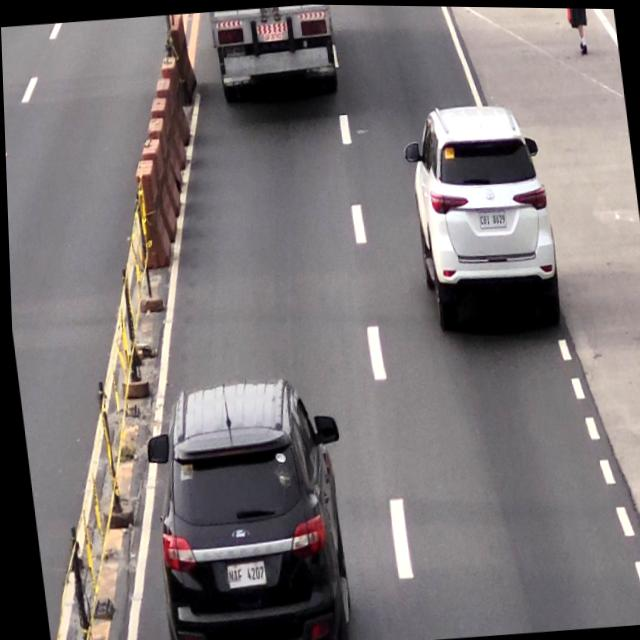Car: (140, 379, 352, 640), (404, 100, 557, 327)
License-Plate: (219, 559, 262, 587), (475, 205, 505, 228)
Truck: (210, 2, 341, 106)
